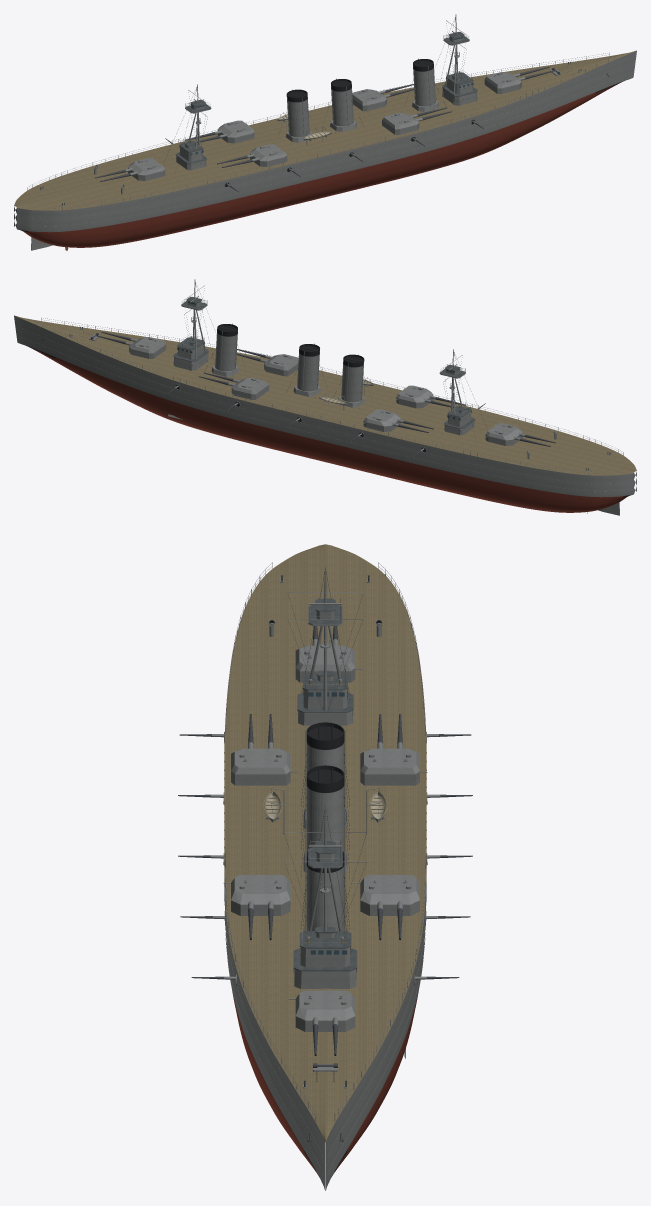
File: kawachi.glb
3 renders of one model, top to bottom at view 1: azimuth 30°, elevation 25°; view 2: azimuth 150°, elevation 25°; view 3: azimuth 270°, elevation 25°, orthographic. The views are drawn at different scales.
Parts seen in each view (by area): view 1: Kawachi class; view 2: Kawachi class; view 3: Kawachi class.
Part boxes in pixels (x1=…): Kawachi class: x1=14, y1=14, x2=636, y2=250; Kawachi class: x1=14, y1=279, x2=636, y2=515; Kawachi class: x1=178, y1=544, x2=472, y2=1190.
Bounding box in the file's own units: 183 × 38.08 × 37.68.
Materials: 9 (8 with a texture image).
